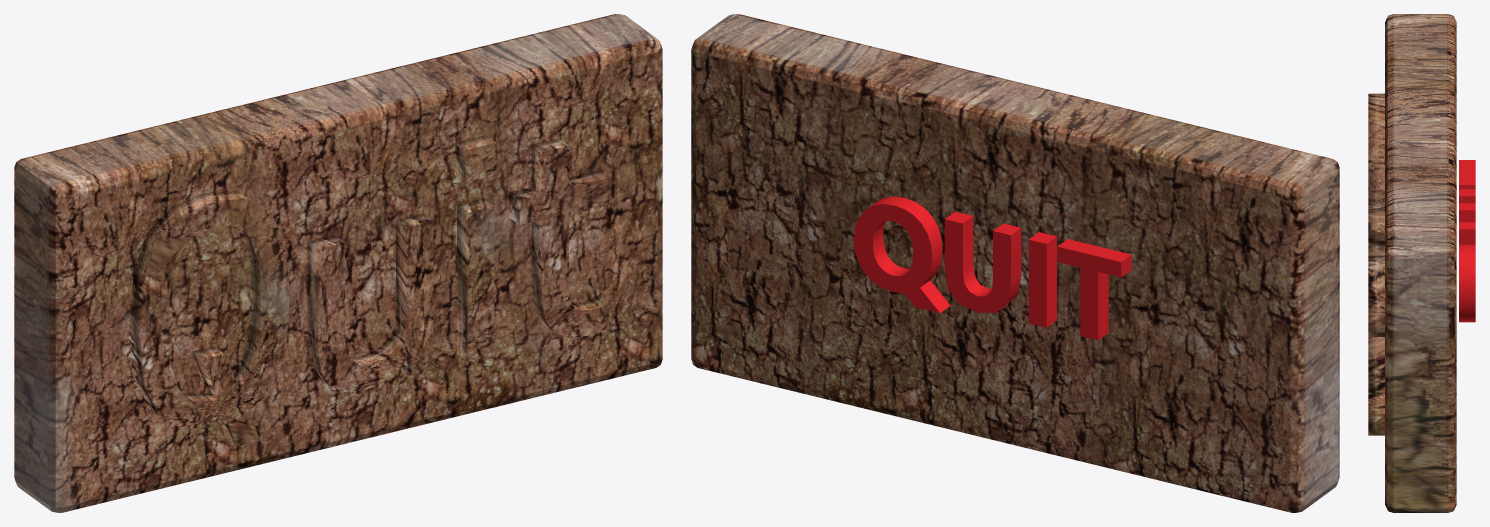
Rendered from Quit Button.fbx.
3 renders of one model, left to right at view 1: azimuth 30°, elevation 25°; view 2: azimuth 150°, elevation 25°; view 3: azimuth 270°, elevation 25°, orthographic. The views are drawn at different scales.
Parts seen in each view (by area): view 1: node_id4; view 2: node_id4, node_id33; view 3: node_id4, node_id33.
Part boxes in pixels (bbox=[...]): node_id4: bbox=[14, 14, 662, 512]; node_id4: bbox=[691, 14, 1339, 512]; node_id33: bbox=[854, 196, 1131, 340]; node_id4: bbox=[1368, 14, 1456, 512]; node_id33: bbox=[1459, 160, 1475, 322].
Size of the model in its own units: 0.512 by 0.2631 by 0.0966.
2 materials, 1 textured.
